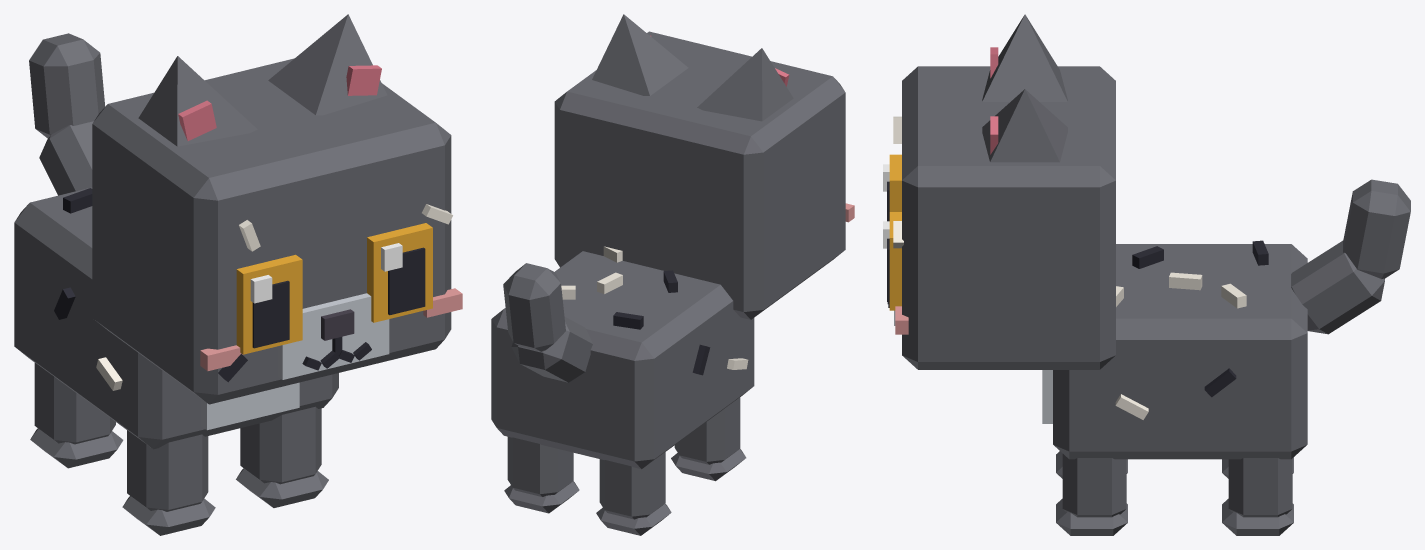
The model's file is CatCafe_Cat_Pepper.glb.
3 views of the same model, side by side, from view 1: azimuth 30°, elevation 25°; view 2: azimuth 150°, elevation 25°; view 3: azimuth 270°, elevation 25° (orthographic). The views are drawn at different scales.
Visible parts, largest first — view 1: CatCafe_Cat_Pepper_Head, CatCafe_Cat_Pepper_Body, CatCafe_Cat_Pepper_Tail, CatCafe_Cat_Pepper_LegF2, CatCafe_Cat_Pepper_LegF1, CatCafe_Cat_Pepper_EarL, CatCafe_Cat_Pepper_Eye2, CatCafe_Cat_Pepper_LegB2, CatCafe_Cat_Pepper_Eye1, CatCafe_Cat_Pepper_EarR; view 2: CatCafe_Cat_Pepper_Head, CatCafe_Cat_Pepper_Body, CatCafe_Cat_Pepper_Tail, CatCafe_Cat_Pepper_LegB2, CatCafe_Cat_Pepper_EarL, CatCafe_Cat_Pepper_LegB1, CatCafe_Cat_Pepper_EarR, CatCafe_Cat_Pepper_LegF2; view 3: CatCafe_Cat_Pepper_Head, CatCafe_Cat_Pepper_Body, CatCafe_Cat_Pepper_Tail, CatCafe_Cat_Pepper_LegF1, CatCafe_Cat_Pepper_LegB1, CatCafe_Cat_Pepper_EarL, CatCafe_Cat_Pepper_EarR, CatCafe_Cat_Pepper_Eye1, CatCafe_Cat_Pepper_Eye2.
Boxes of the visible parts, x1=… form: CatCafe_Cat_Pepper_Head: x1=92, y1=58, x2=462, y2=404; CatCafe_Cat_Pepper_Body: x1=14, y1=187, x2=338, y2=449; CatCafe_Cat_Pepper_Tail: x1=29, y1=33, x2=105, y2=195; CatCafe_Cat_Pepper_LegF2: x1=122, y1=430, x2=215, y2=535; CatCafe_Cat_Pepper_LegF1: x1=236, y1=406, x2=328, y2=507; CatCafe_Cat_Pepper_EarL: x1=268, y1=14, x2=387, y2=115; CatCafe_Cat_Pepper_Eye2: x1=236, y1=254, x2=302, y2=354; CatCafe_Cat_Pepper_LegB2: x1=30, y1=362, x2=123, y2=468; CatCafe_Cat_Pepper_Eye1: x1=367, y1=223, x2=432, y2=322; CatCafe_Cat_Pepper_EarR: x1=138, y1=56, x2=257, y2=146; CatCafe_Cat_Pepper_Head: x1=554, y1=31, x2=854, y2=319; CatCafe_Cat_Pepper_Body: x1=491, y1=246, x2=754, y2=469; CatCafe_Cat_Pepper_Tail: x1=503, y1=263, x2=592, y2=382; CatCafe_Cat_Pepper_LegB2: x1=596, y1=452, x2=671, y2=535; CatCafe_Cat_Pepper_EarL: x1=592, y1=14, x2=688, y2=95; CatCafe_Cat_Pepper_LegB1: x1=504, y1=437, x2=579, y2=513; CatCafe_Cat_Pepper_EarR: x1=697, y1=48, x2=793, y2=121; CatCafe_Cat_Pepper_LegF2: x1=671, y1=397, x2=746, y2=481; CatCafe_Cat_Pepper_Head: x1=887, y1=66, x2=1115, y2=369; CatCafe_Cat_Pepper_Body: x1=1042, y1=240, x2=1307, y2=459; CatCafe_Cat_Pepper_Tail: x1=1291, y1=179, x2=1410, y2=334; CatCafe_Cat_Pepper_LegF1: x1=1056, y1=454, x2=1127, y2=535; CatCafe_Cat_Pepper_LegB1: x1=1222, y1=458, x2=1293, y2=535; CatCafe_Cat_Pepper_EarL: x1=982, y1=89, x2=1067, y2=162; CatCafe_Cat_Pepper_EarR: x1=982, y1=14, x2=1067, y2=101; CatCafe_Cat_Pepper_Eye1: x1=883, y1=212, x2=901, y2=310; CatCafe_Cat_Pepper_Eye2: x1=883, y1=154, x2=901, y2=221.
Size of the model in its own units: 1 by 1.86 by 1.97.
Materials: 1 (1 with a texture image).
